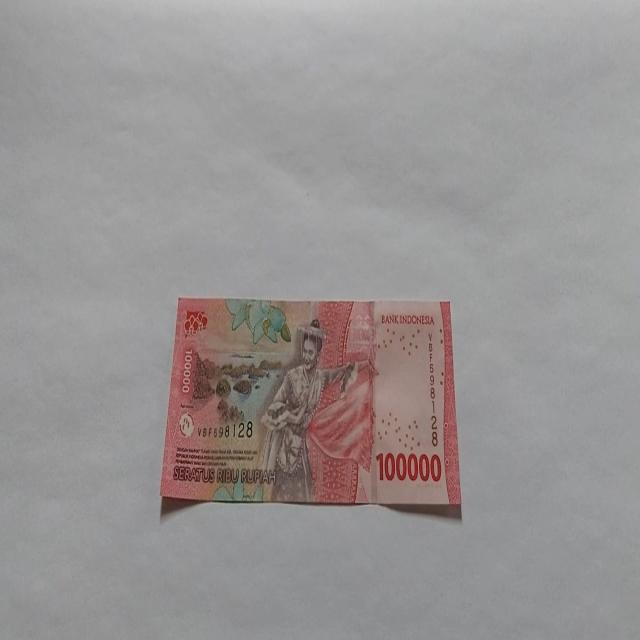seratus ribu rupiah: (158, 296, 462, 511), (256, 317, 359, 503)
